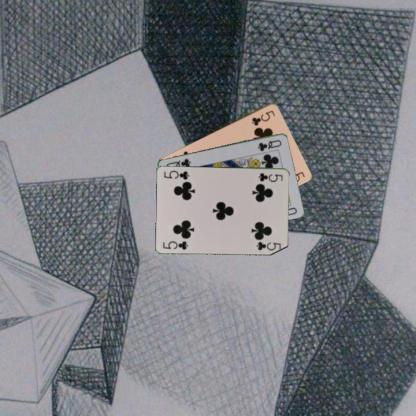5c: (249, 107, 276, 128), (256, 170, 284, 184), (160, 238, 190, 250)
Qc: (256, 136, 283, 152)
